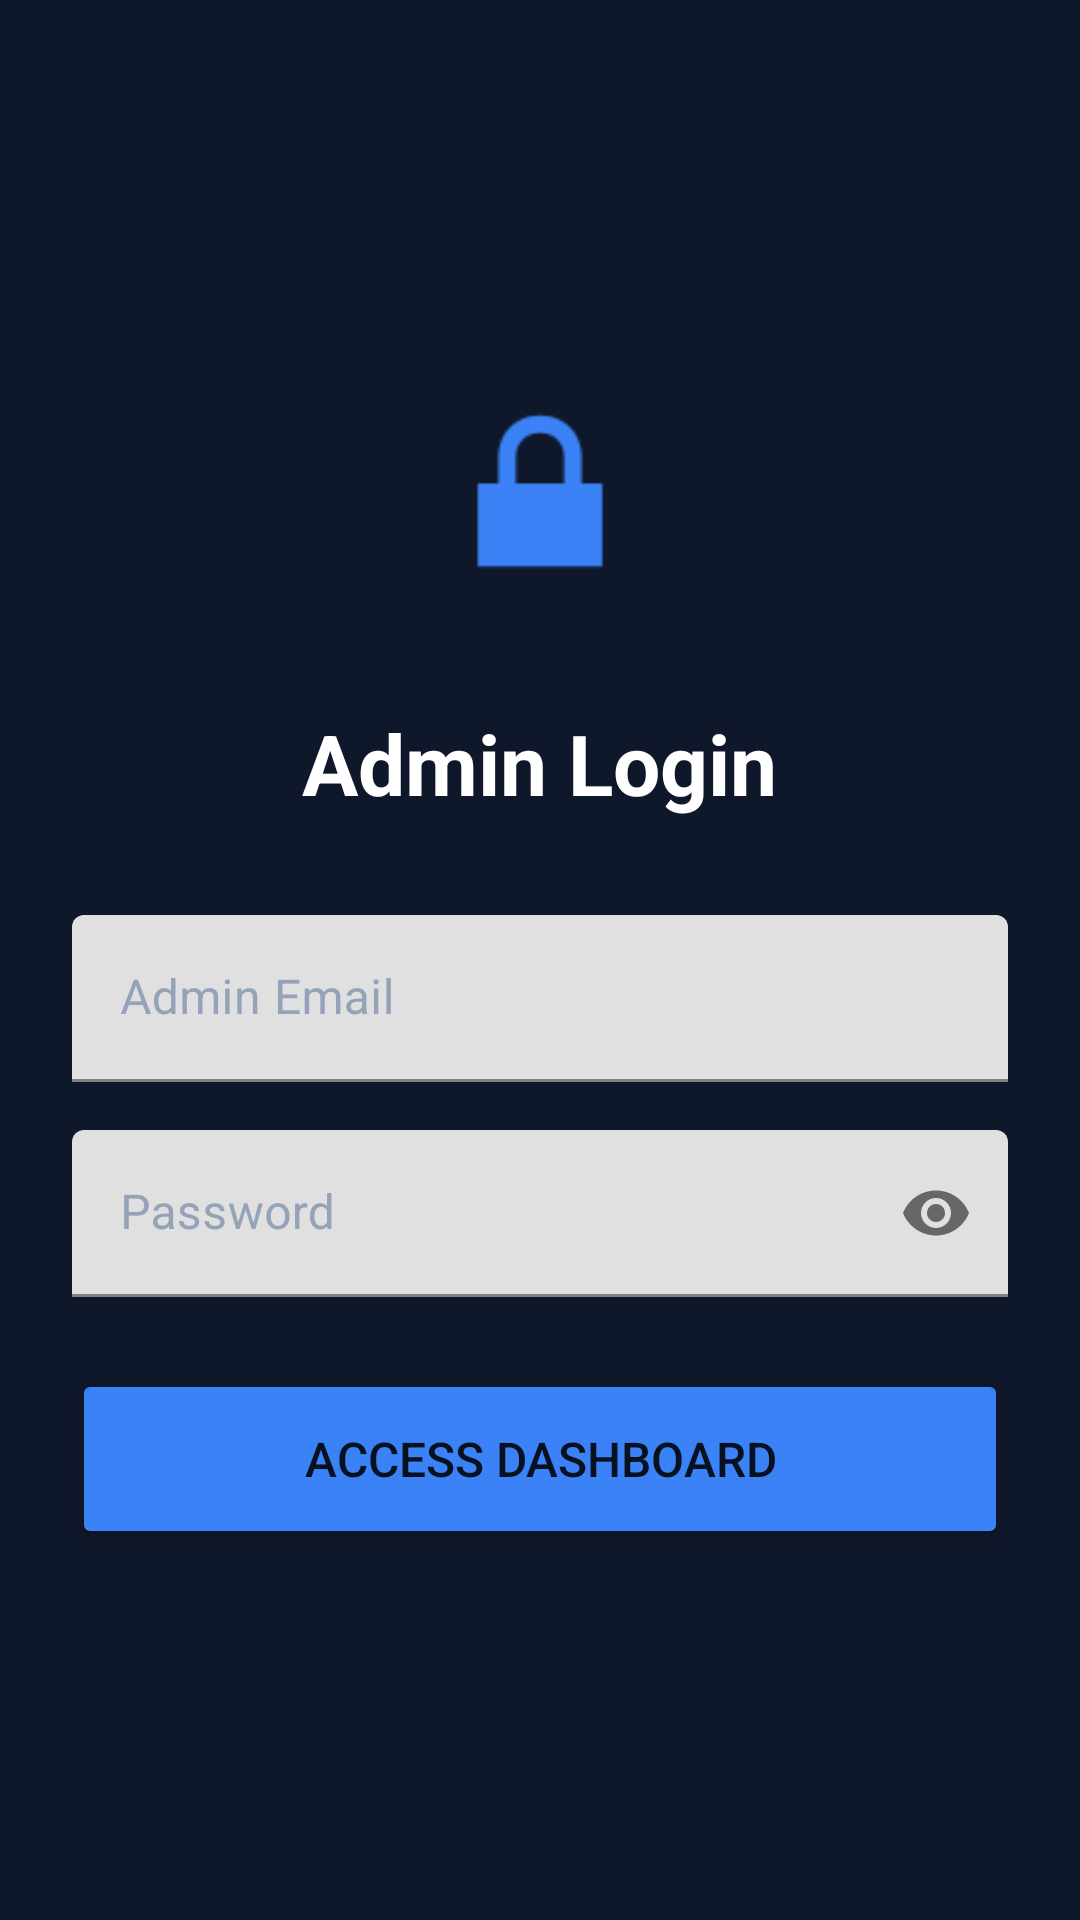

Icon bounding boxes for this 1080×1920 phone screenshot, format rect(x1, y1, x2, y2):
Login Lock Icon: rect(477, 414, 603, 568)
